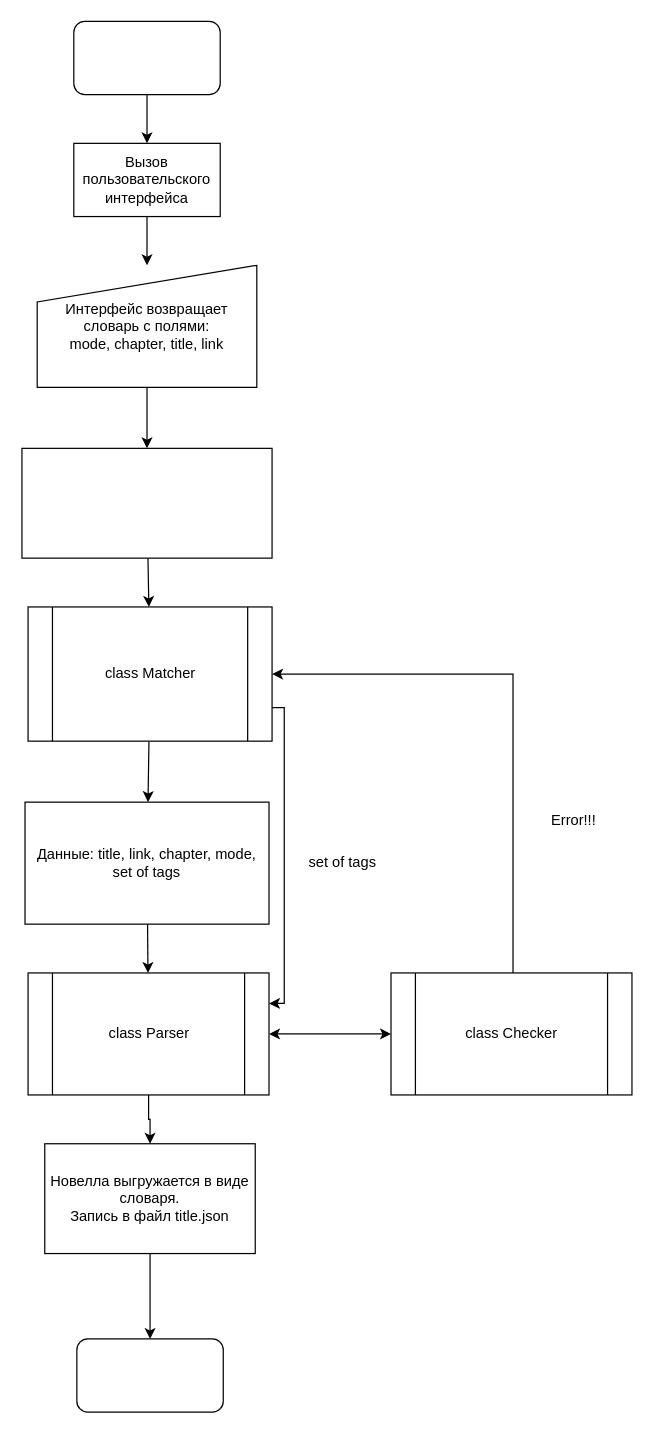
Image size: 653x1434. Some labels were removed from this diagram. The box of each missing label's shape, as (x1, y1, x2, y2) in pixels:
finish: (76, 1338, 223, 1412)
start: (73, 20, 220, 95)
С помощью регулярного выражения получаем имя сайта: (21, 447, 272, 558)
